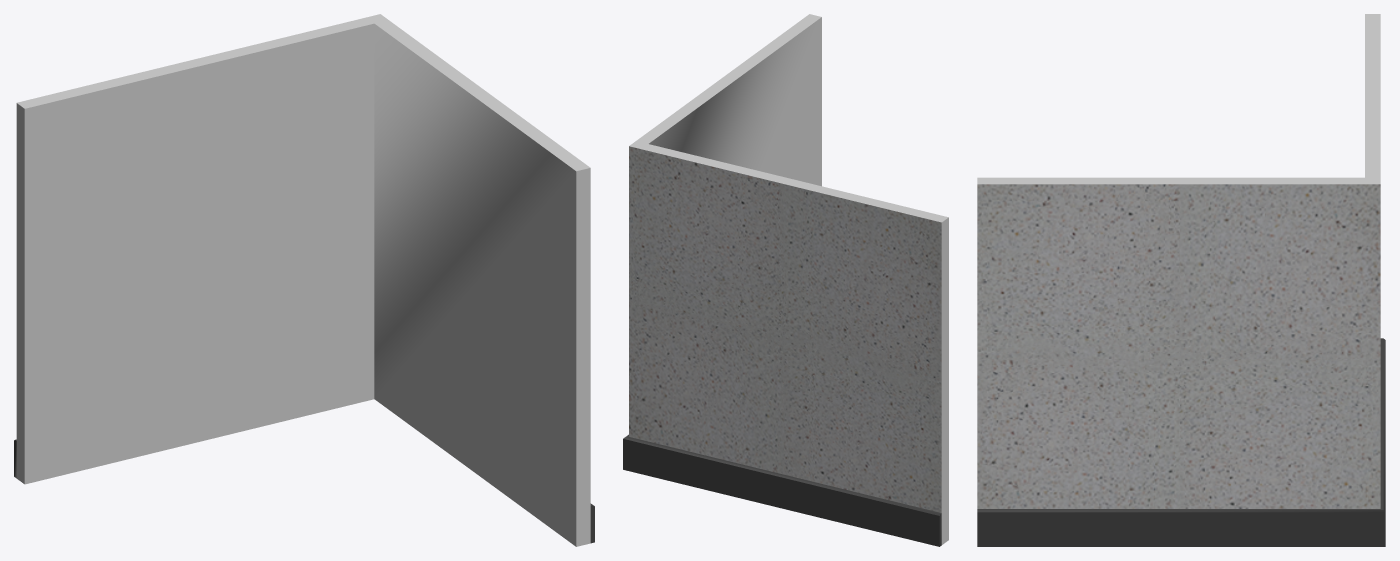
Rendered from House_Corridor_Corner1.fbx.
The picture shows the model from 3 angles, left to right: view 1: azimuth 30°, elevation 25°; view 2: azimuth 150°, elevation 25°; view 3: azimuth 270°, elevation 25°; orthographic projection. The views are drawn at different scales.
Parts seen in each view (by area): view 1: House_Wall_Full__20_; view 2: House_Wall_Full__20_; view 3: House_Wall_Full__20_.
Part boxes in pixels (x1,y1,x2,y2): House_Wall_Full__20_: [14, 14, 594, 546]; House_Wall_Full__20_: [623, 14, 948, 546]; House_Wall_Full__20_: [977, 14, 1385, 546].
Bounding box in the file's own units: 257 × 250 × 256.
